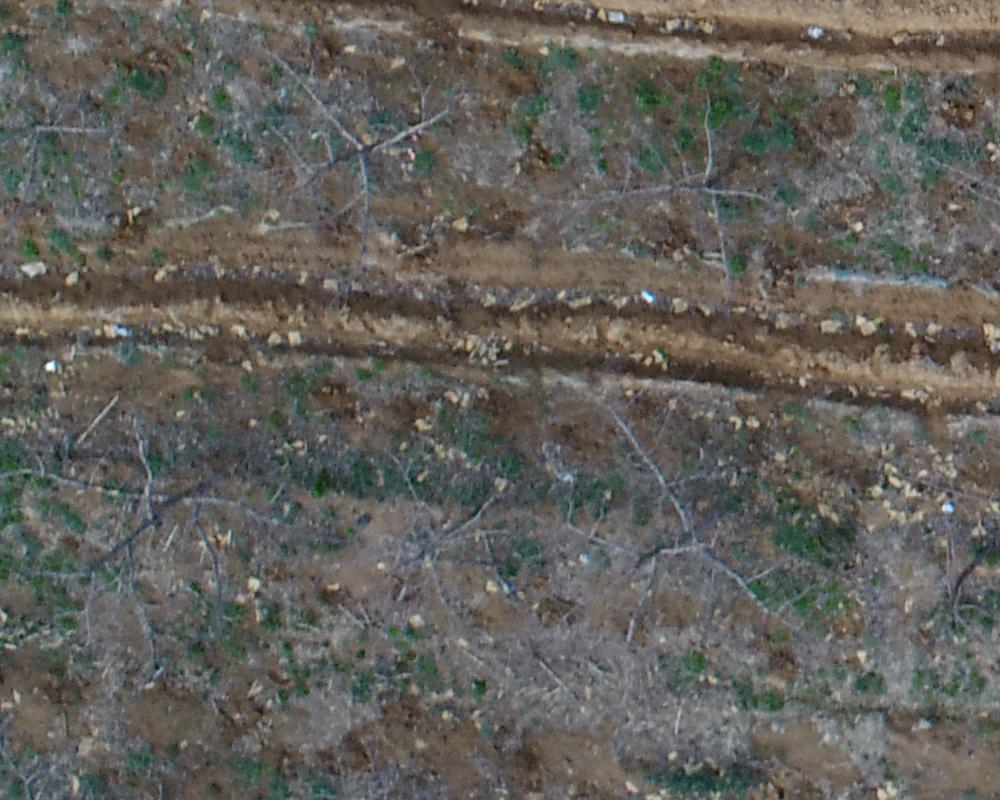apple: (561, 389, 821, 650), (199, 37, 448, 253), (10, 425, 272, 619), (573, 60, 761, 281), (347, 465, 519, 618), (10, 74, 116, 225), (902, 511, 990, 674)
